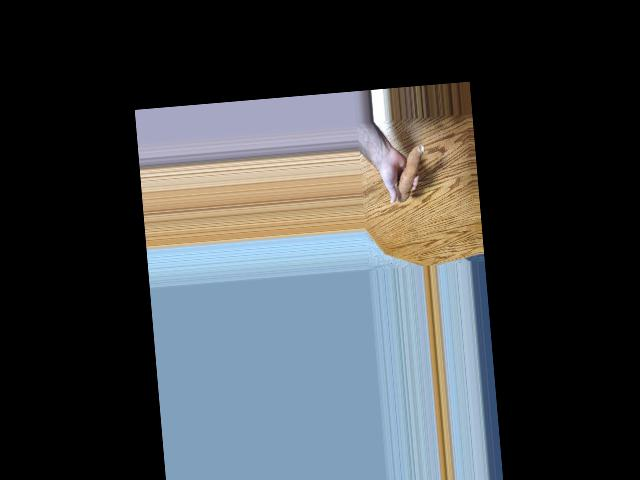sweet_potato: (394, 143, 427, 205)
